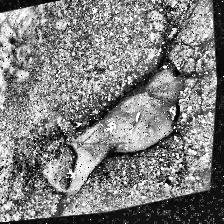pothole: (45, 60, 201, 212)
